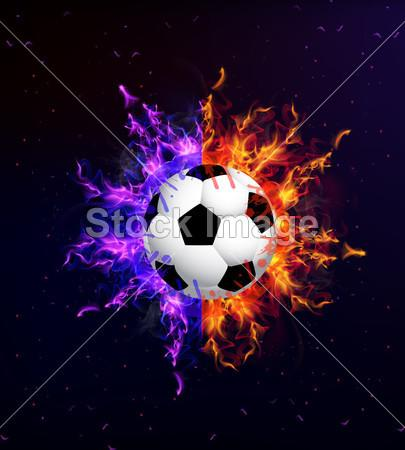football: (153, 170, 275, 297)
